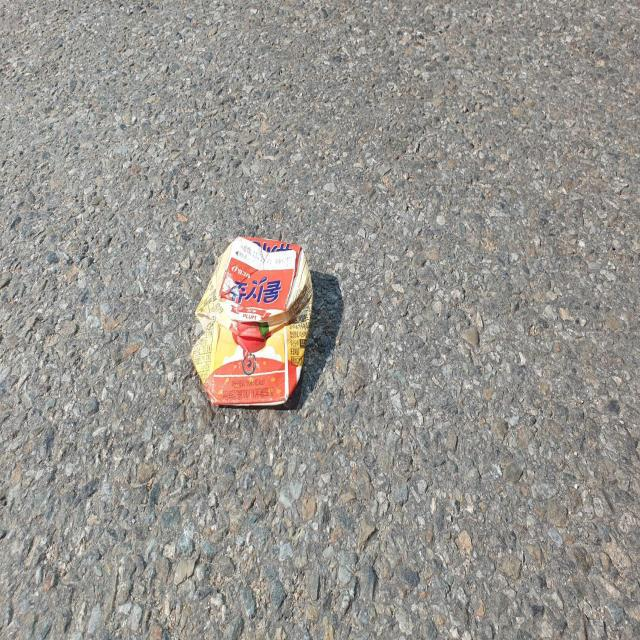paperpack: (191, 235, 313, 405)
